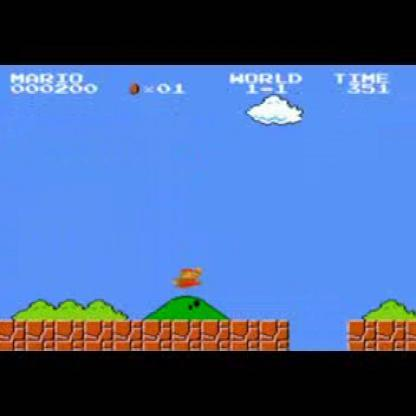Hoyo: (282, 318, 354, 352)
